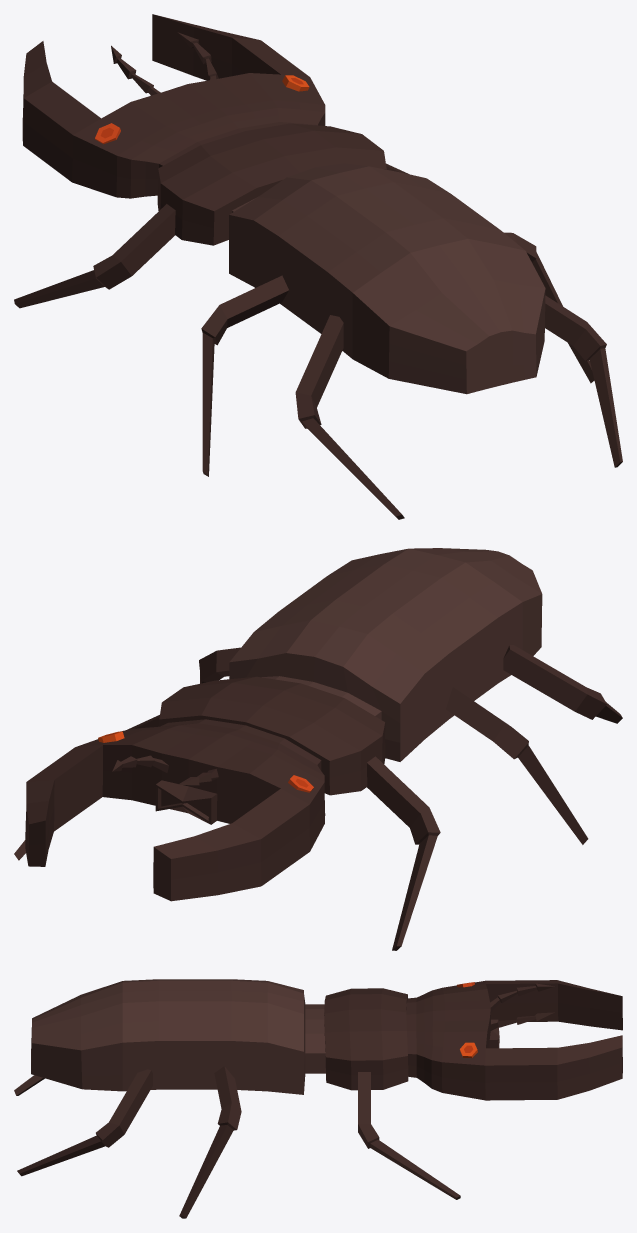
The model's file is Roga4.fbx.
3 renders of one model, top to bottom at view 1: azimuth 30°, elevation 25°; view 2: azimuth 150°, elevation 25°; view 3: azimuth 270°, elevation 25°, orthographic. The views are drawn at different scales.
Visible parts, largest first — view 1: Cube, Cube.001, Cube.007, Cube.008, Cube.010, Cube.009, Cube.005, Cube.006; view 2: Cube, Cube.001, Cube.007, Cube.008, Cube.009, Cube.010, Cube.006; view 3: Cube, Cube.001, Cube.007, Cube.005, Cube.006, Cube.004, Cube.003, Cube.002.
Boxes of the visible parts, x1,y1,x2,y2 form: Cube: (229,163,545,394); Cube.001: (22,14,325,198); Cube.007: (157,123,386,245); Cube.008: (14,204,175,308); Cube.010: (295,315,404,519); Cube.009: (201,275,288,476); Cube.005: (545,295,622,467); Cube.006: (504,232,594,383); Cube: (229,548,542,761); Cube.001: (25,719,325,901); Cube.007: (159,676,385,795); Cube.008: (367,756,440,950); Cube.009: (446,687,588,844); Cube.010: (503,645,622,723); Cube.006: (199,647,240,683); Cube: (31,979,325,1094); Cube.001: (406,980,622,1100); Cube.007: (324,988,408,1090); Cube.005: (17,1069,152,1176); Cube.006: (179,1066,241,1218); Cube.004: (358,1072,460,1199); Cube.003: (490,983,554,1012); Cube.002: (489,1012,554,1031).
Bounding box in the file's own units: 449 × 238 × 822.
